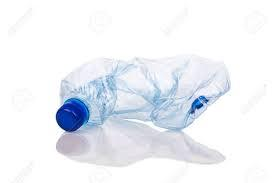plastic: (49, 53, 231, 138)
